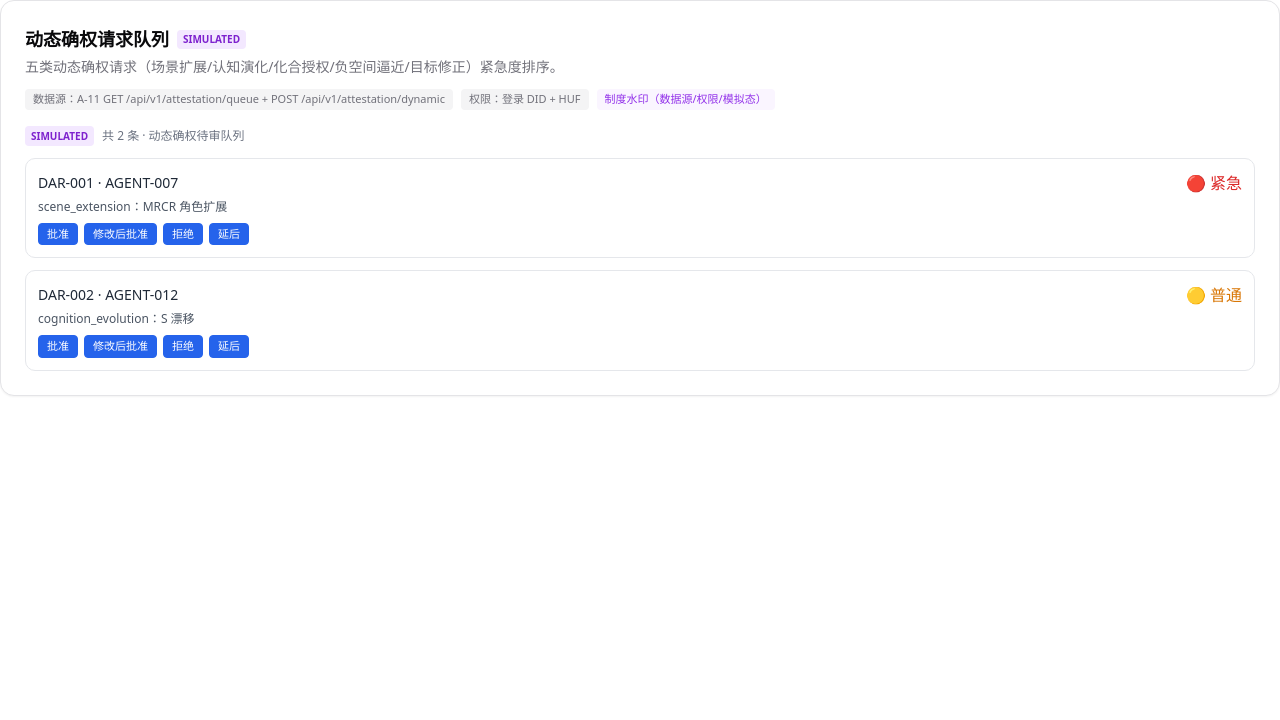
Test: F5 确权中心 › 动态确权：紧急度排序 + 四操作 → HUF → POST dynamic 决策更新
Expected: the element with test id "dynamic-queue" is shown, 25,126 -> 1255,370
Expected: the text "scene_extension：MRCR 角色扩展" is shown, 38,198 -> 227,214
Click the button "批准" below "scene_extension" at x=58, y=234, box 38,222 -> 78,245
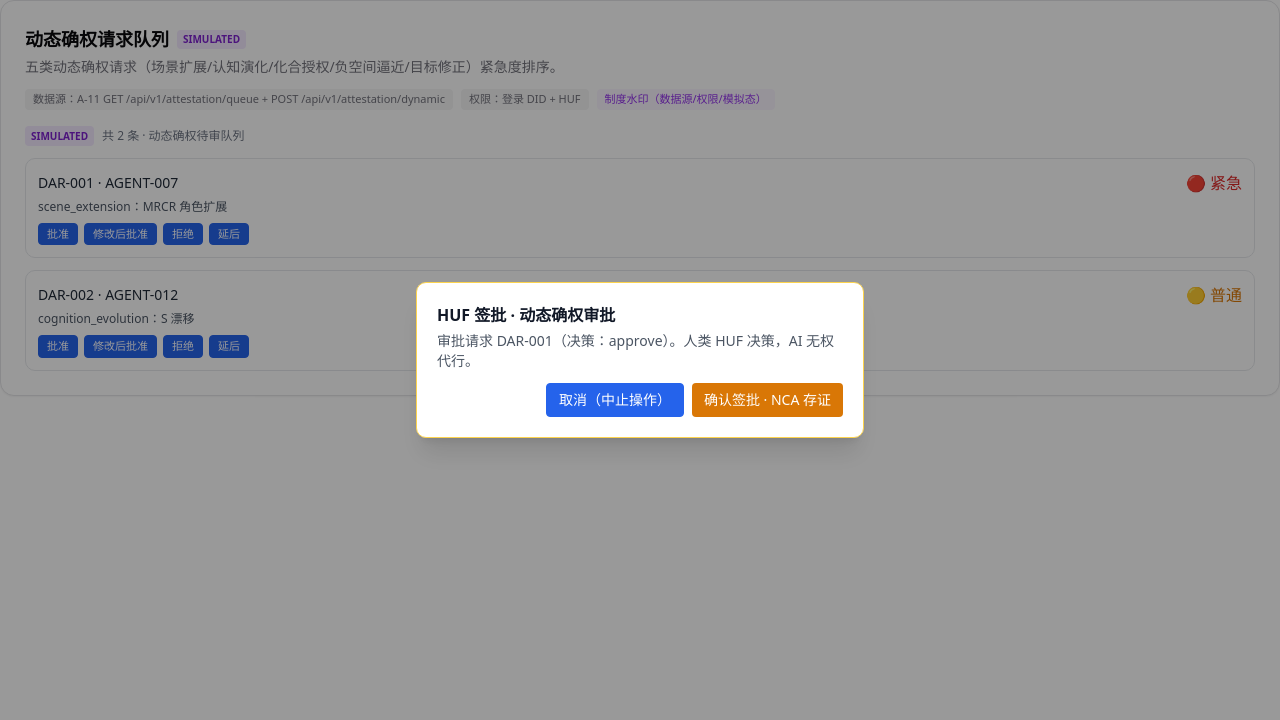
Result: the element with test id "huf-modal" is shown
Click the button with test id "huf-confirm" at x=767, y=400, box 692,383 -> 843,417
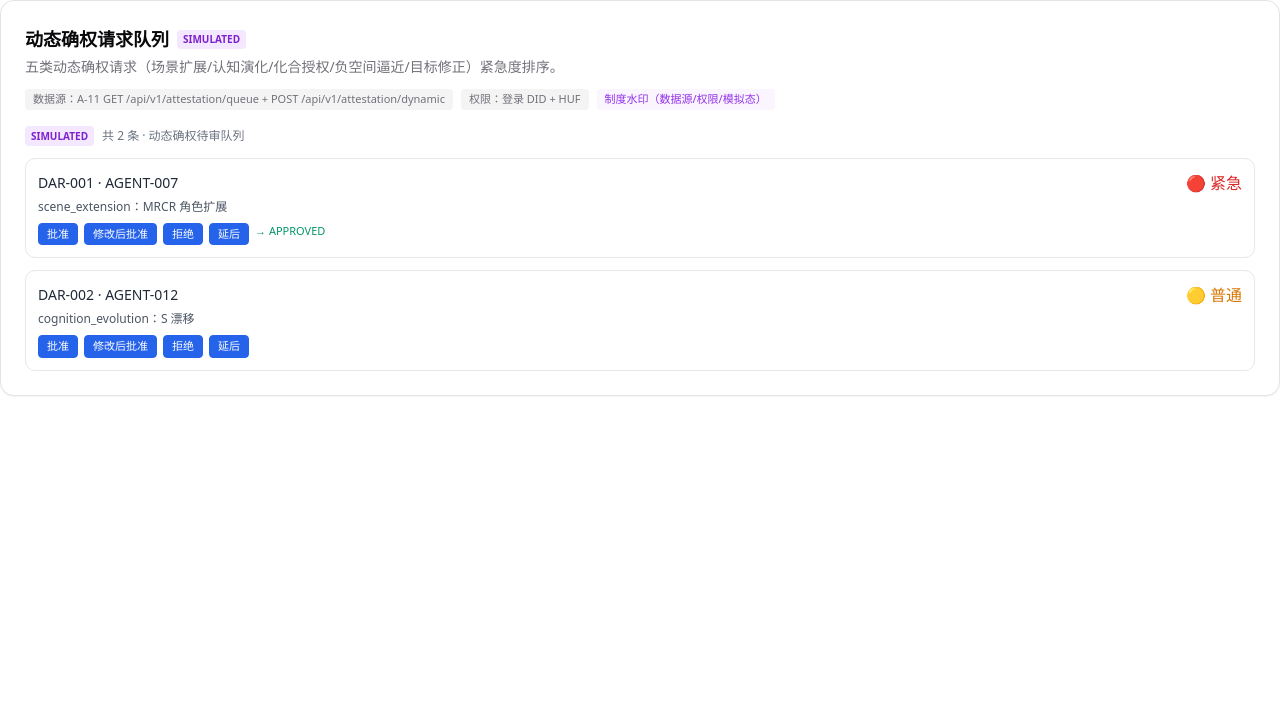
Result: the text with test id "decision-DAR-001" shows "APPROVED" at 269,222 -> 325,238
